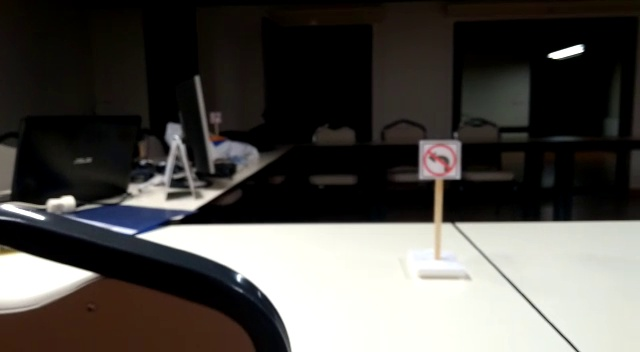sola_donulmez: (416, 138, 461, 183)
